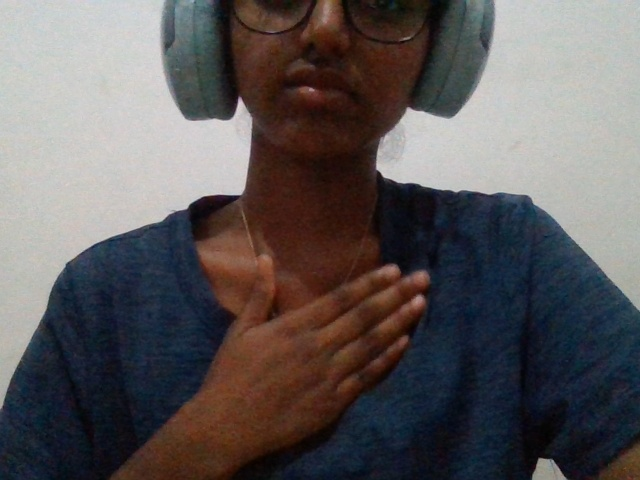Please: (171, 226, 447, 480)
